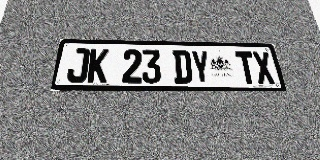2: (122, 49, 142, 83)
3: (142, 49, 161, 83)
D: (173, 50, 193, 83)
J: (66, 48, 90, 83)
K: (87, 48, 109, 83)
T: (235, 51, 258, 84)
X: (252, 52, 276, 84)
Y: (190, 50, 212, 84)
